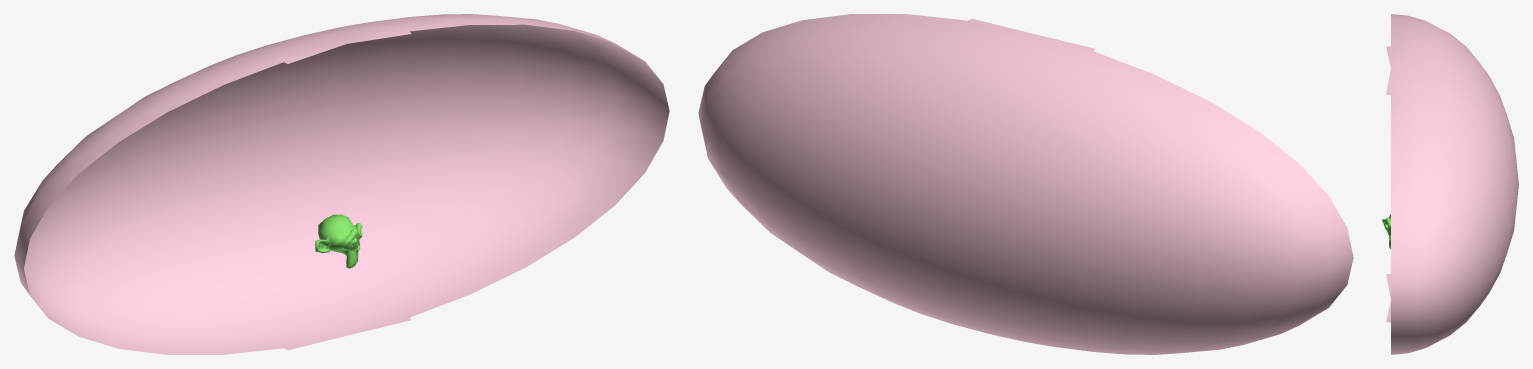
File: tile-4.glb
The picture shows the model from 3 angles, left to right: view 1: azimuth 30°, elevation 25°; view 2: azimuth 150°, elevation 25°; view 3: azimuth 270°, elevation 25°; orthographic projection. The views are drawn at different scales.
Parts seen in each view (by area): view 1: Background, Suzanne; view 2: Background; view 3: Background, Suzanne.
Boxes of the visible parts, bbox=[...] form: Background: bbox=[14, 14, 669, 354]; Suzanne: bbox=[315, 214, 362, 268]; Background: bbox=[698, 14, 1353, 354]; Background: bbox=[1386, 14, 1518, 354]; Suzanne: bbox=[1382, 214, 1390, 249].
Size of the model in its own units: 28.79 by 12.43 by 6.65.
